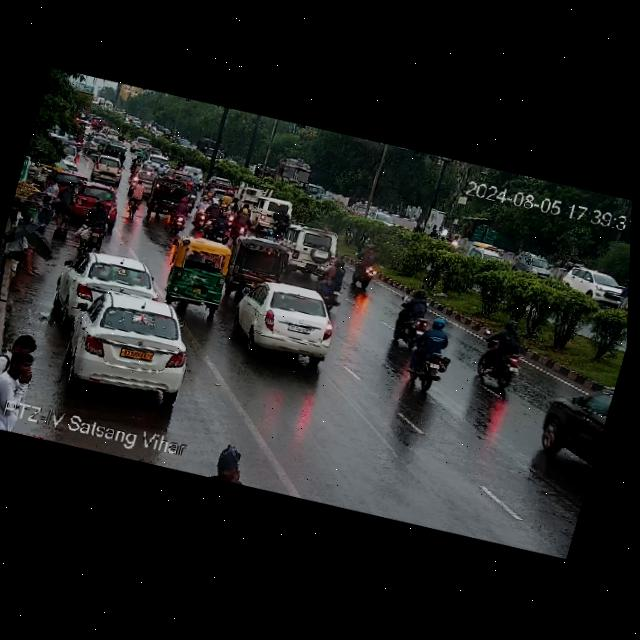car: (37, 276, 207, 410), (227, 275, 346, 368), (51, 244, 169, 335), (528, 371, 612, 477), (158, 232, 239, 317), (223, 235, 298, 294), (275, 223, 343, 281), (557, 261, 630, 309), (68, 180, 122, 223), (142, 178, 193, 222), (509, 242, 552, 286), (463, 234, 506, 275), (84, 151, 131, 187), (89, 137, 130, 162), (174, 160, 210, 182), (207, 175, 240, 198), (129, 134, 157, 154), (143, 145, 171, 160)
motorcycle: (400, 313, 461, 394), (470, 323, 531, 391), (387, 286, 442, 349), (197, 194, 240, 243), (76, 195, 118, 245), (343, 245, 385, 290), (193, 193, 228, 237), (163, 190, 197, 233)
person: (0, 342, 45, 411), (196, 439, 253, 486), (10, 329, 44, 361)
truck: (239, 143, 321, 197)
